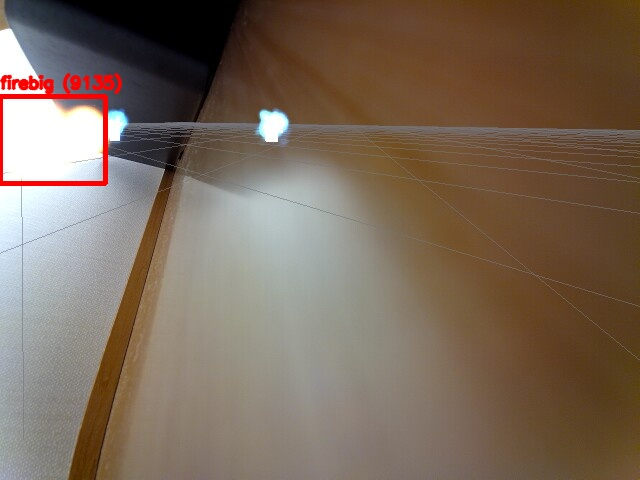firebig: (0, 96, 105, 183)
